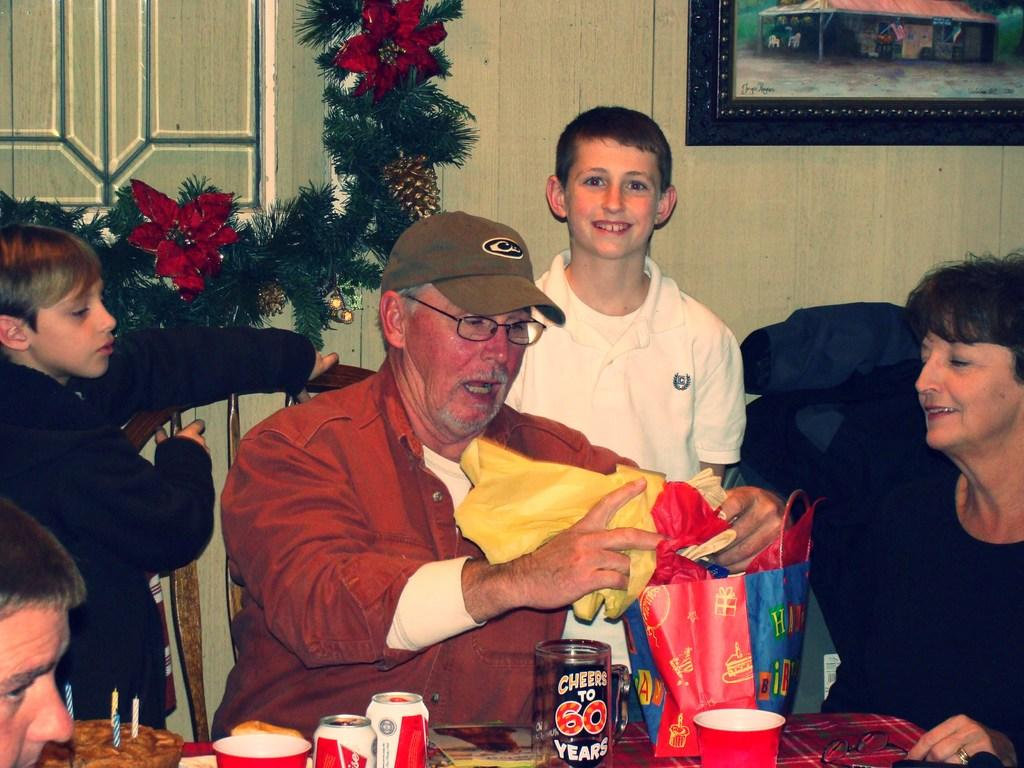Hat: (378, 208, 564, 328)
